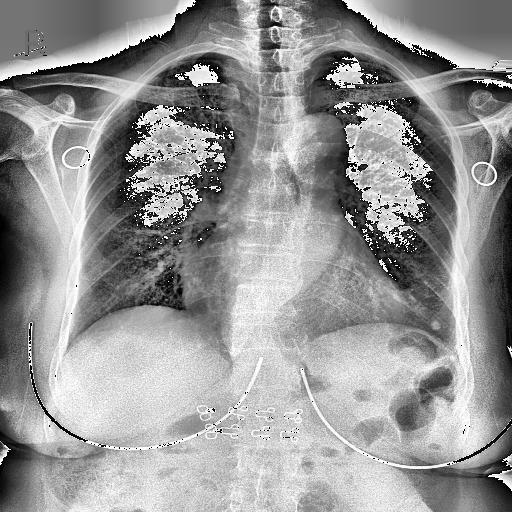0- Aortic enlargement: (287, 114, 348, 176), (288, 109, 348, 165), (292, 114, 346, 170)
3- Cardiomegaly: (180, 268, 406, 366), (181, 251, 408, 329), (182, 258, 406, 318)
8- Nodule-Mass: (429, 318, 442, 332), (430, 319, 438, 330)
9- Other lesion: (430, 319, 438, 330)
